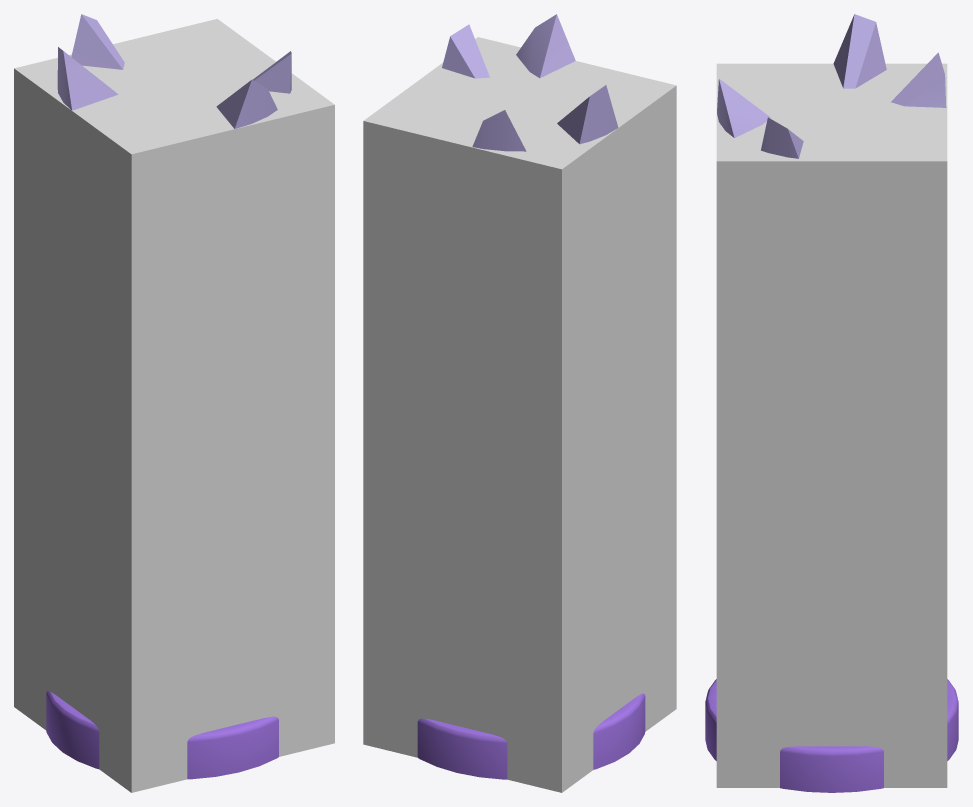
The model's file is BigPillar.fbx.
The picture shows the model from 3 angles, left to right: view 1: azimuth 30°, elevation 25°; view 2: azimuth 150°, elevation 25°; view 3: azimuth 270°, elevation 25°; orthographic projection. The views are drawn at different scales.
Parts seen in each view (by area): view 1: Cube, 円柱.001, 円柱.002; view 2: Cube, 円柱.002, 円柱.001; view 3: Cube, 円柱.002, 円柱.001.
Boxes of the visible parts, bbox=[...] form: Cube: bbox=[14, 19, 334, 792]; 円柱.001: bbox=[46, 691, 278, 779]; 円柱.002: bbox=[57, 14, 291, 128]; Cube: bbox=[363, 37, 676, 792]; 円柱.002: bbox=[442, 14, 618, 151]; 円柱.001: bbox=[417, 693, 645, 779]; Cube: bbox=[716, 63, 947, 787]; 円柱.002: bbox=[717, 14, 946, 158]; 円柱.001: bbox=[705, 679, 958, 792].
Bounding box in the file's own units: 220 × 649 × 220.
